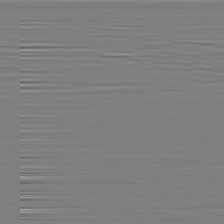cavities: (131, 64, 201, 128)
